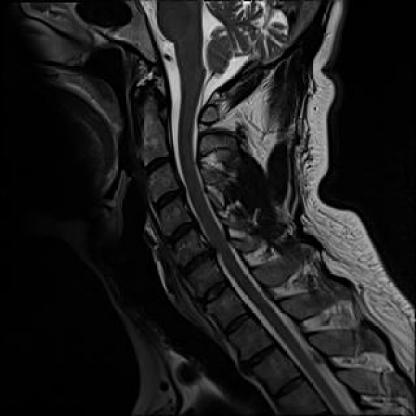Disc Bulgerotation: (176, 247, 219, 272), (159, 218, 201, 242)
Disc Protrusionrotation: (151, 185, 187, 209)
